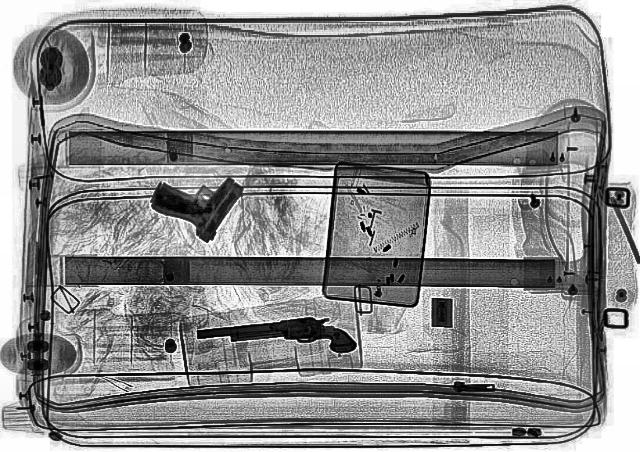Gun: (130, 160, 248, 242), (190, 312, 356, 366)
